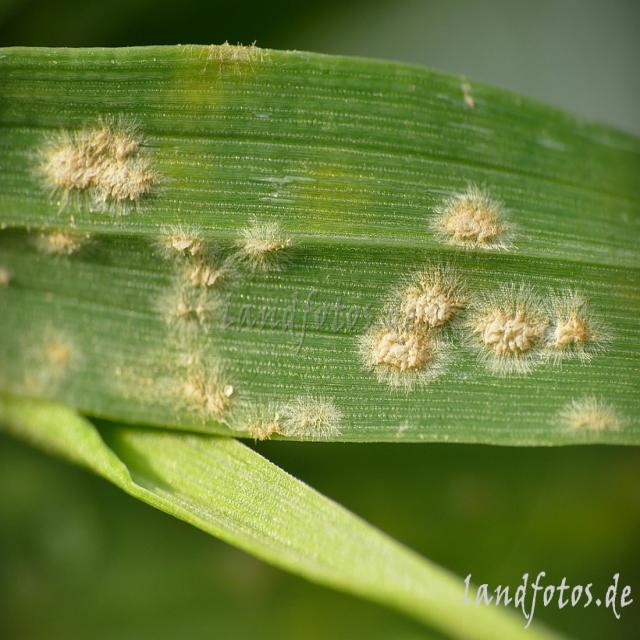wheat-powdery-mildew: (108, 211, 352, 443), (358, 266, 617, 391), (30, 113, 174, 215), (428, 183, 518, 248), (23, 317, 92, 395), (227, 214, 307, 276), (185, 43, 283, 82), (554, 391, 629, 439), (34, 219, 84, 275)
